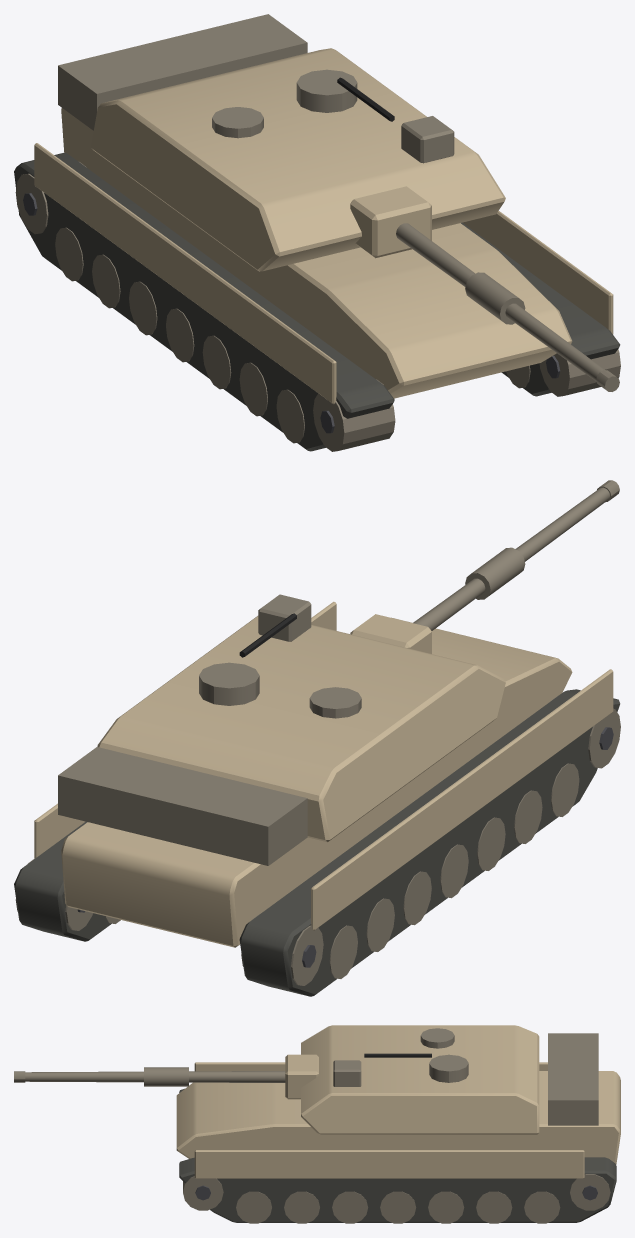
File: tank.glb
3 views of the same model, one above another, from view 1: azimuth 30°, elevation 25°; view 2: azimuth 150°, elevation 25°; view 3: azimuth 270°, elevation 25° (orthographic). The views are drawn at different scales.
Parts seen in each view (by area): view 1: tank_body, turret, barrel, wheel_FR, wheel_FL, wheel_RR; view 2: tank_body, turret, barrel, wheel_RR, wheel_FR; view 3: tank_body, turret, barrel, wheel_RL, wheel_FL.
Boxes of the visible parts, left/top/right/bottom form: tank_body: left=14, top=108, right=620, bottom=451; turret: left=58, top=14, right=505, bottom=271; barrel: left=350, top=186, right=619, bottom=391; wheel_FR: left=313, top=379, right=395, bottom=451; wheel_FL: left=539, top=349, right=620, bottom=396; wheel_RR: left=15, top=162, right=86, bottom=234; tank_body: left=14, top=601, right=620, bottom=996; turret: left=58, top=594, right=505, bottom=865; barrel: left=350, top=480, right=619, bottom=653; wheel_RR: left=241, top=913, right=323, bottom=985; wheel_FR: left=550, top=696, right=620, bottom=768; tank_body: left=176, top=1062, right=620, bottom=1223; turret: left=301, top=1025, right=598, bottom=1134; barrel: left=14, top=1054, right=318, bottom=1099; wheel_RL: left=570, top=1174, right=610, bottom=1210; wheel_FL: left=183, top=1176, right=223, bottom=1210.
Size of the model in its own units: 3.74 by 2.78 by 10.74.
